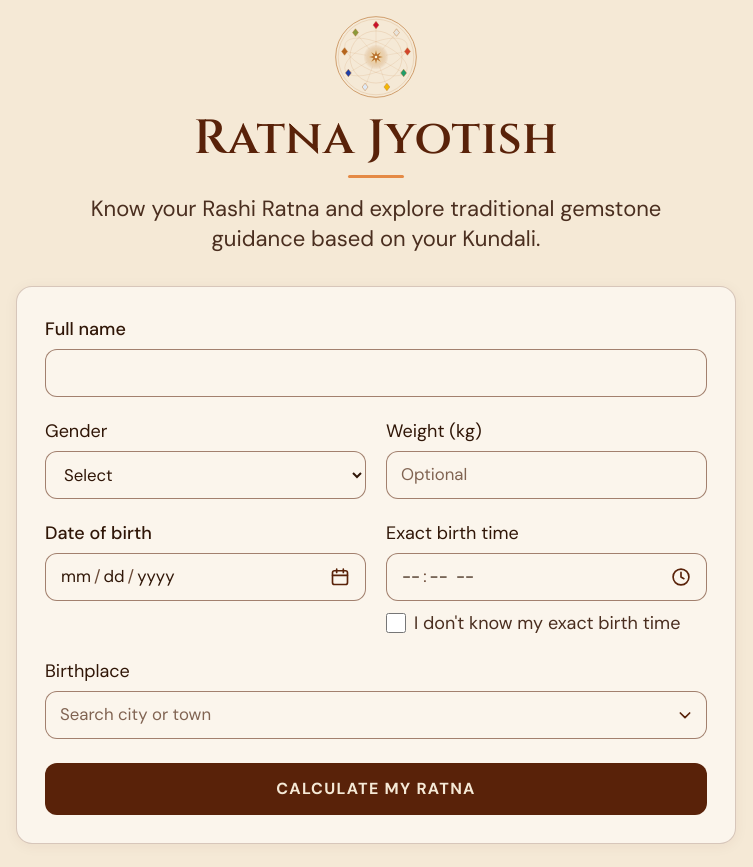
Test case: Ratna Jyotish form › does not accept typed text as a confirmed birthplace
This screenshot has width=753, height=867.
Type "Asha Verma" into the field labelled "Full name" at (376, 373), box [45,349,707,397]
Select "Female" in the dropdown labelled "Gender" at (206, 475), box [45,451,366,499]
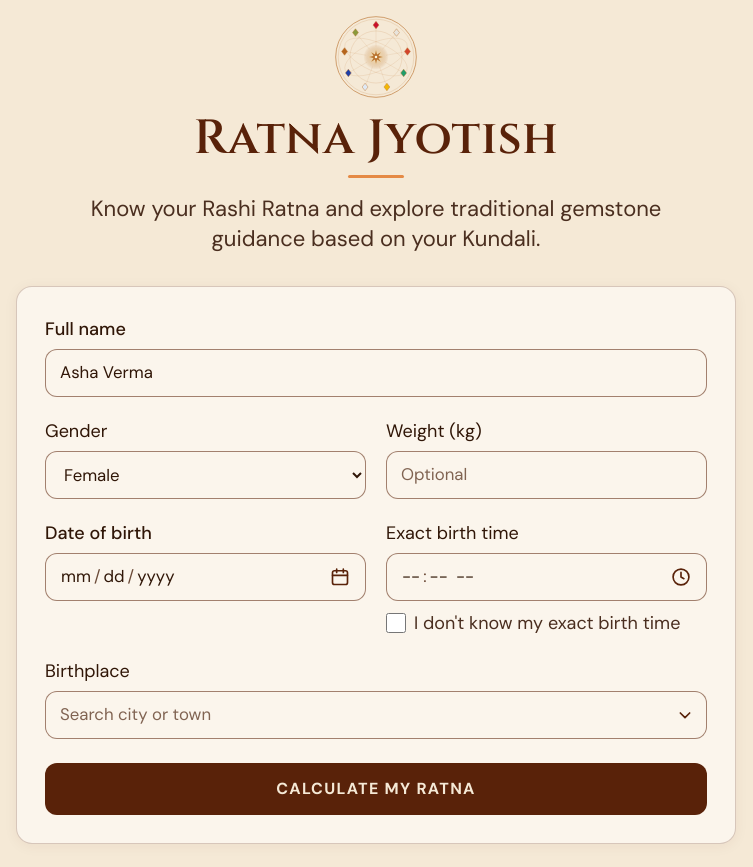
Type "58" into the number field labelled "Weight (kg)" at (546, 475), box [386,451,707,499]
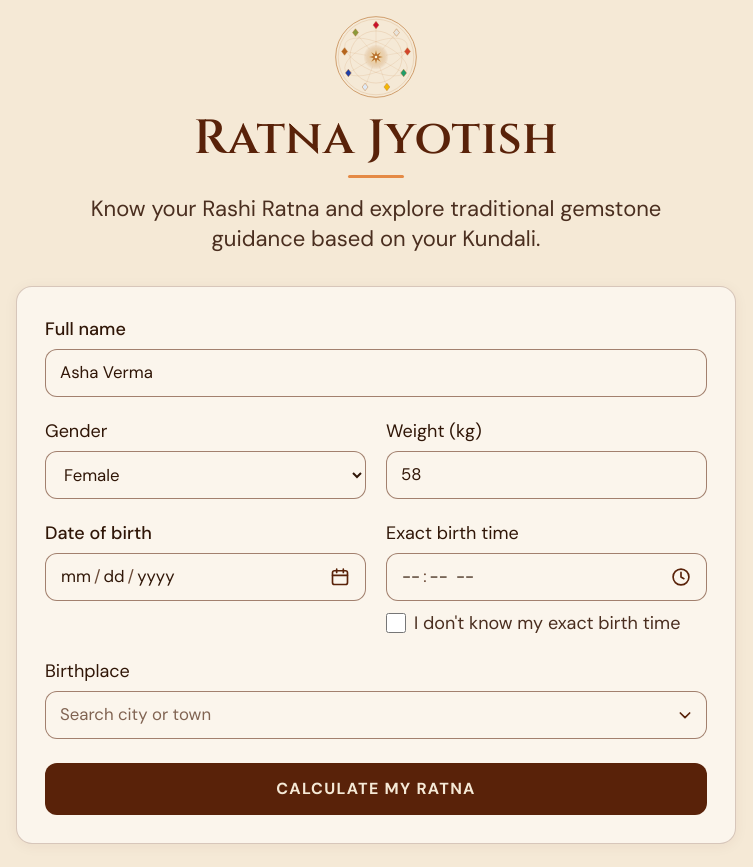
Type "1990-05-05" into the date field labelled "Date of birth" at (206, 577), box [45,553,366,601]
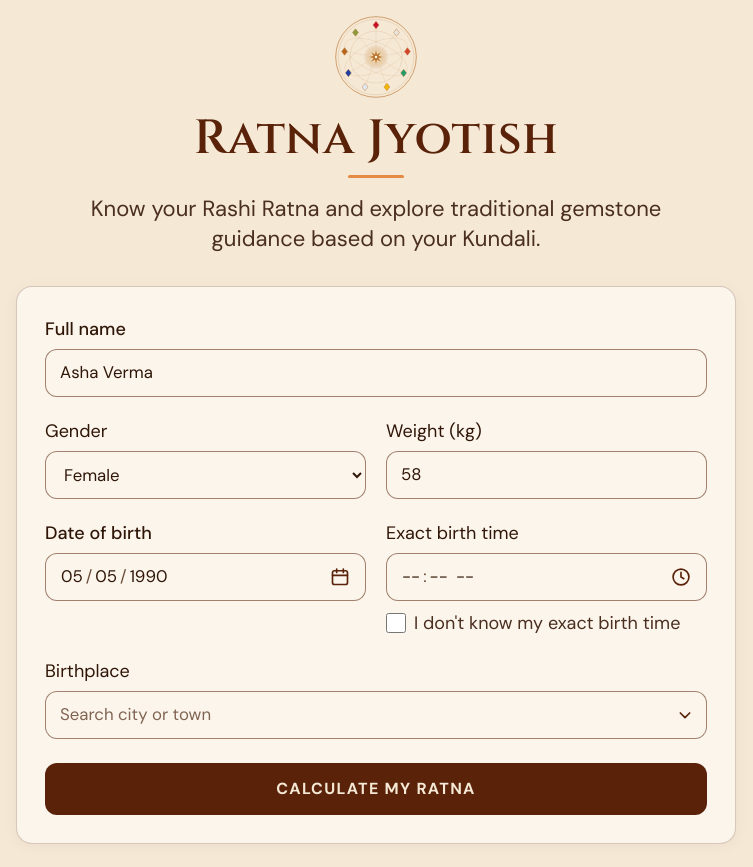
Type "10:00" into the time field labelled "Exact birth time" at (546, 577), box [386,553,707,601]
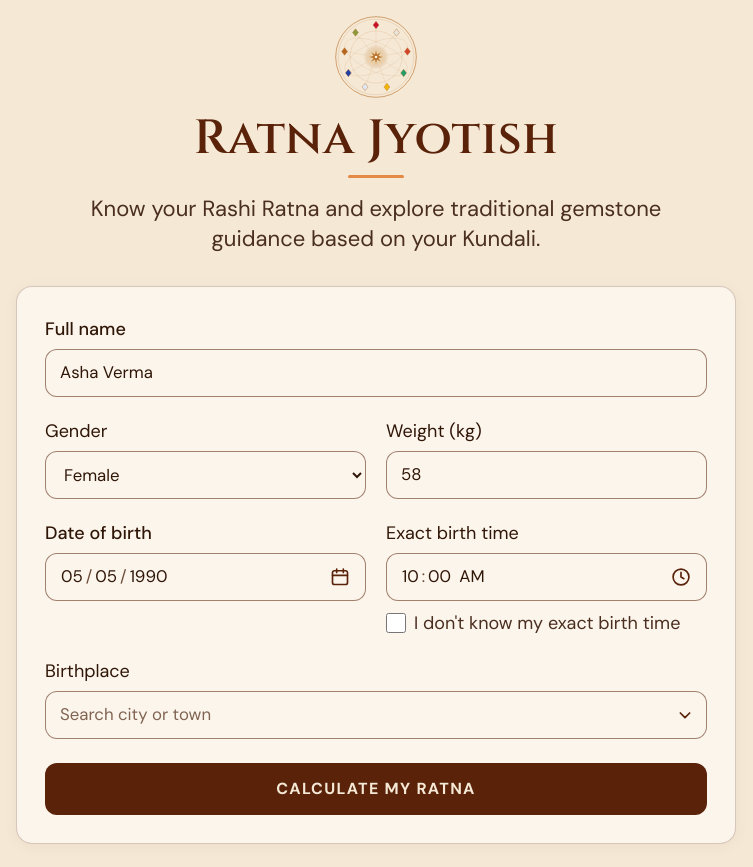
Type "Delhi" into the dropdown named "Birthplace" at (376, 715), box [45,691,707,739]
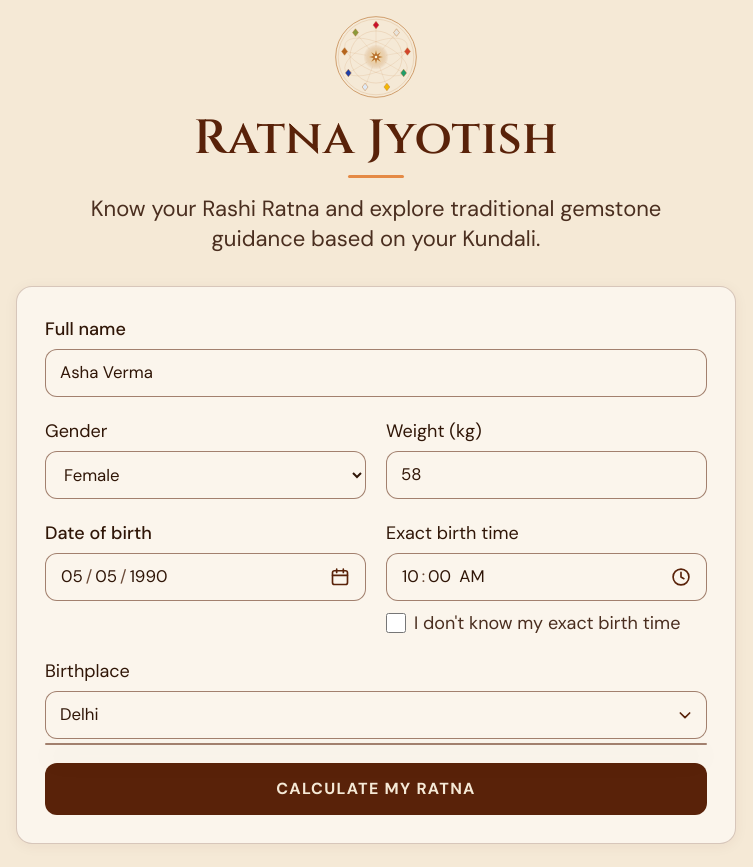
Click the button "CALCULATE MY RATNA" at (376, 789), box [45,763,707,815]
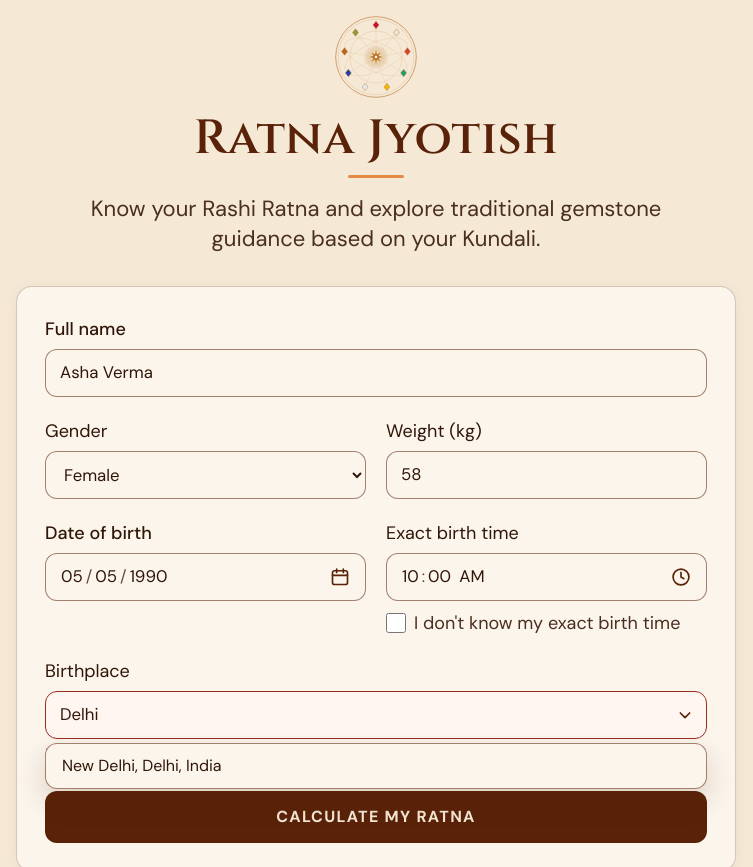
Check: the text "Please choose your birthplace from the suggestions." is shown, box [45,744,439,765]
